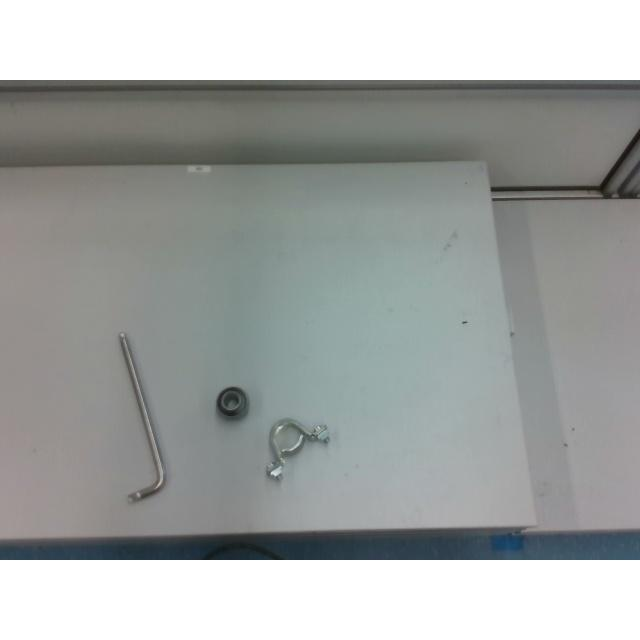AllenKey: (118, 332, 168, 504)
Bearing2: (214, 386, 250, 422)
Housing: (266, 418, 326, 478)
